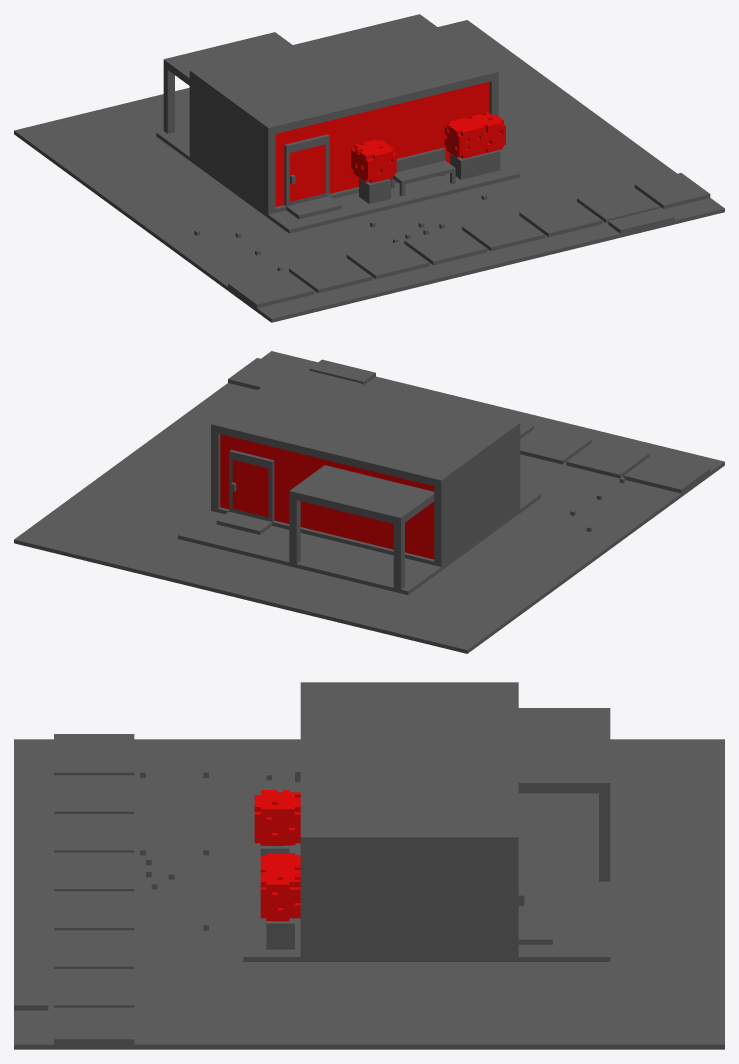
File: scene_house4.obj
The picture shows the model from 3 angles, top to bottom: view 1: azimuth 30°, elevation 25°; view 2: azimuth 150°, elevation 25°; view 3: azimuth 270°, elevation 25°; orthographic projection. The views are drawn at different scales.
Bounding box in the file's own units: 126 × 25 × 124.
